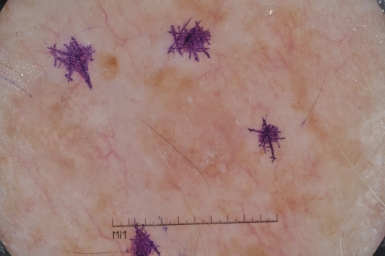seborrheic keratosis: (116, 69, 242, 197)
